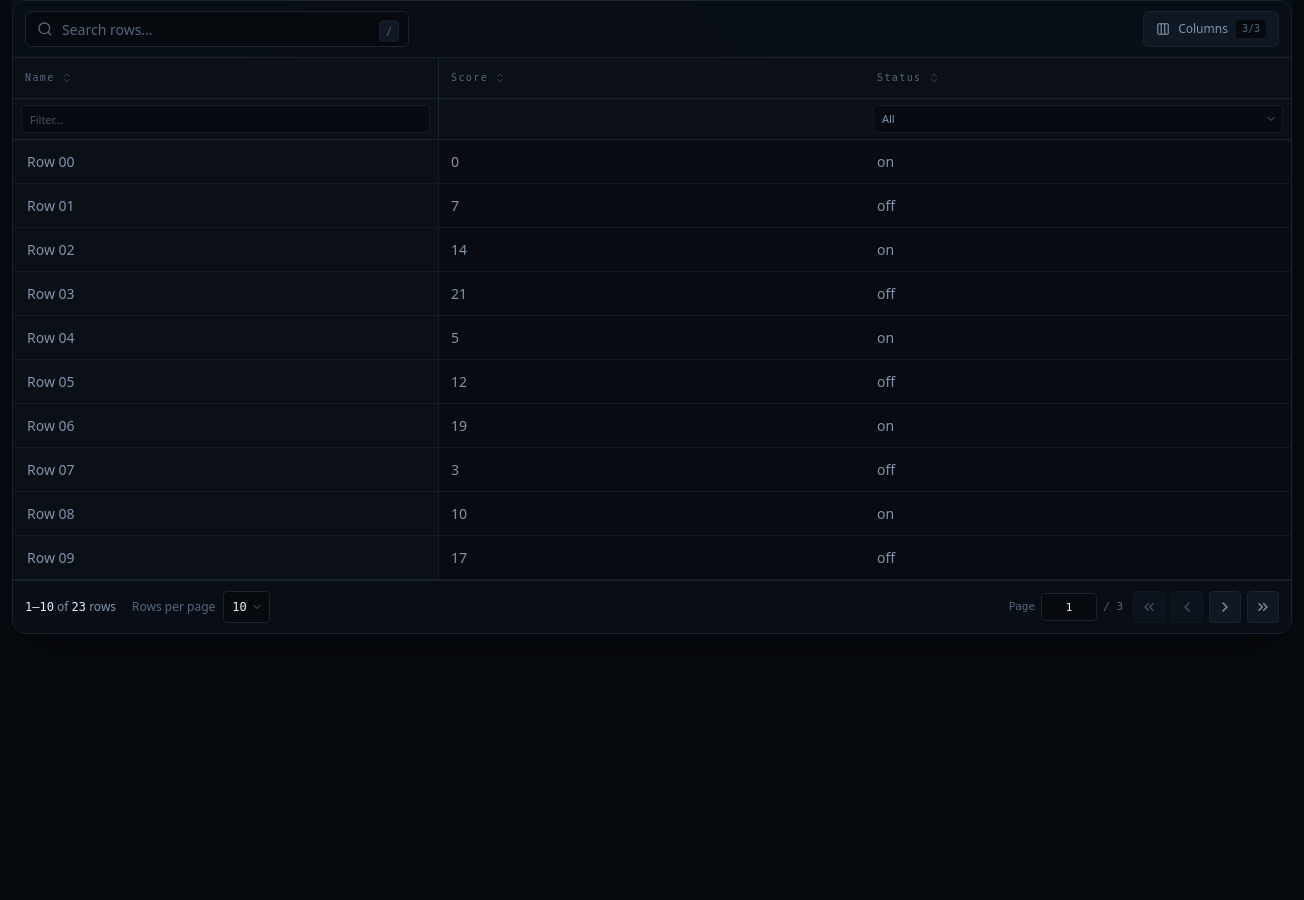
Test: DataGrid › filters a column with a select
Click the button with aria-label "Filter by Status": (888, 119) x1=873 y1=105 x2=1283 y2=133
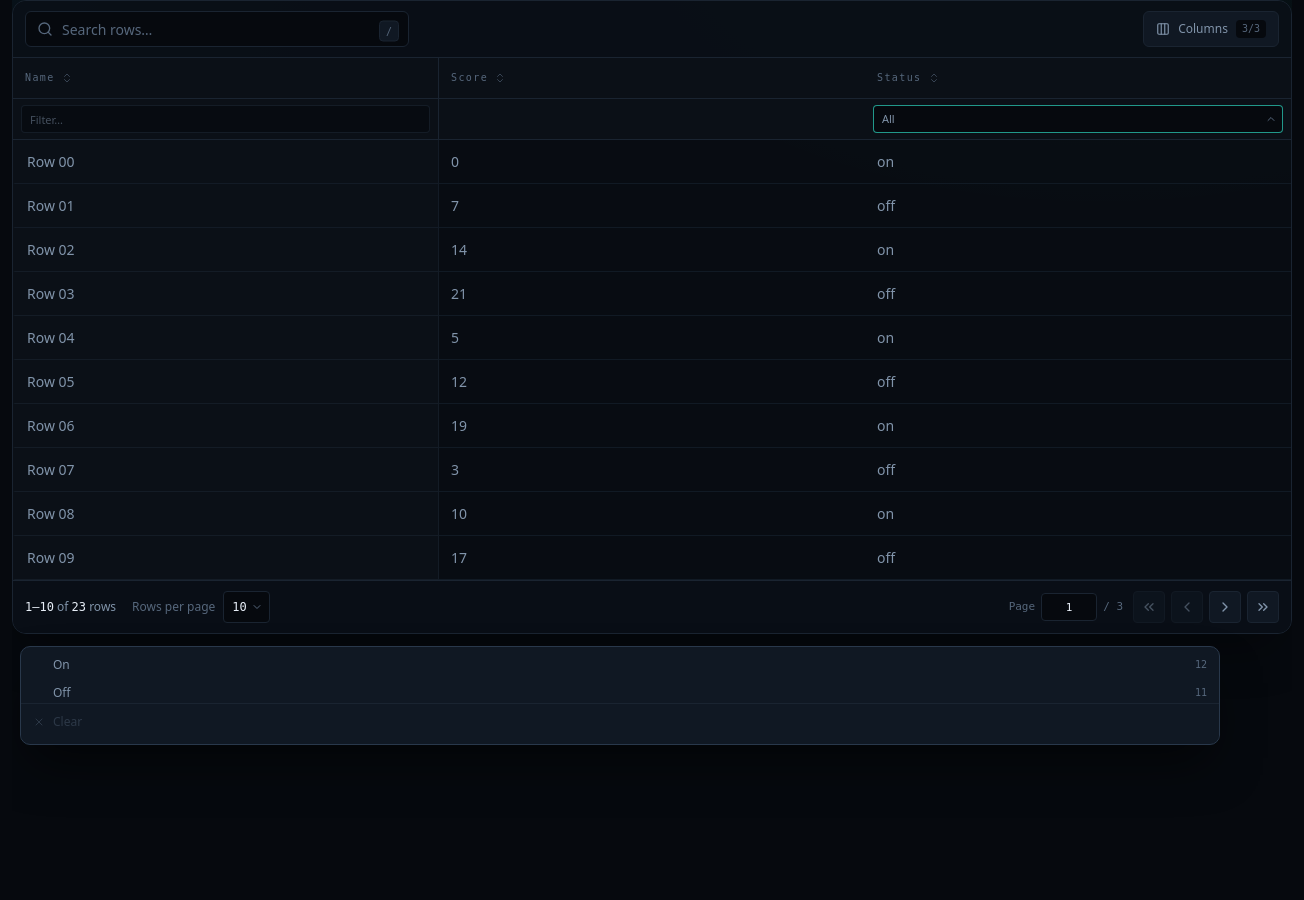
Click the menu item "On 12": (61, 664) x1=25 y1=651 x2=1215 y2=679
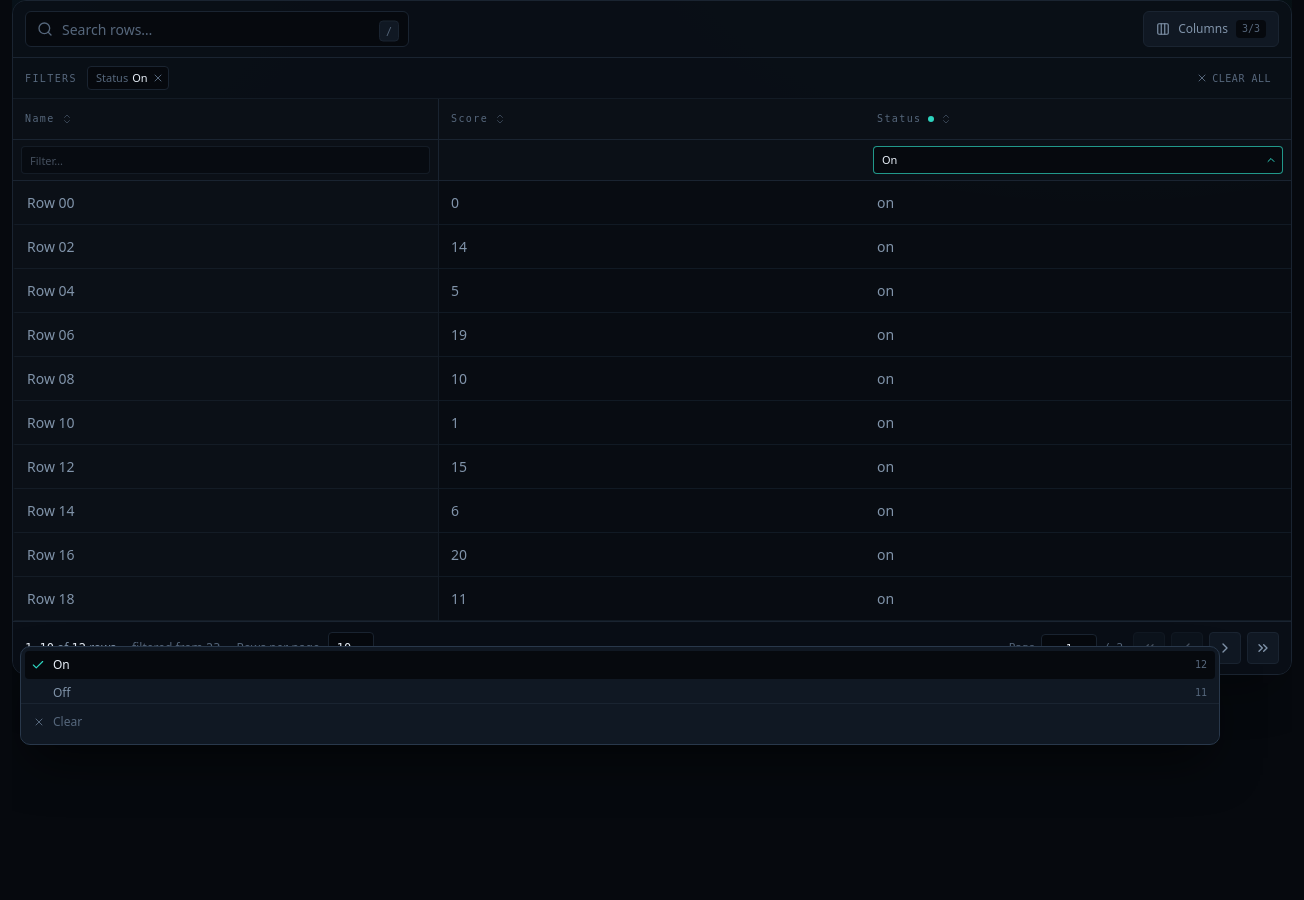
Press Escape
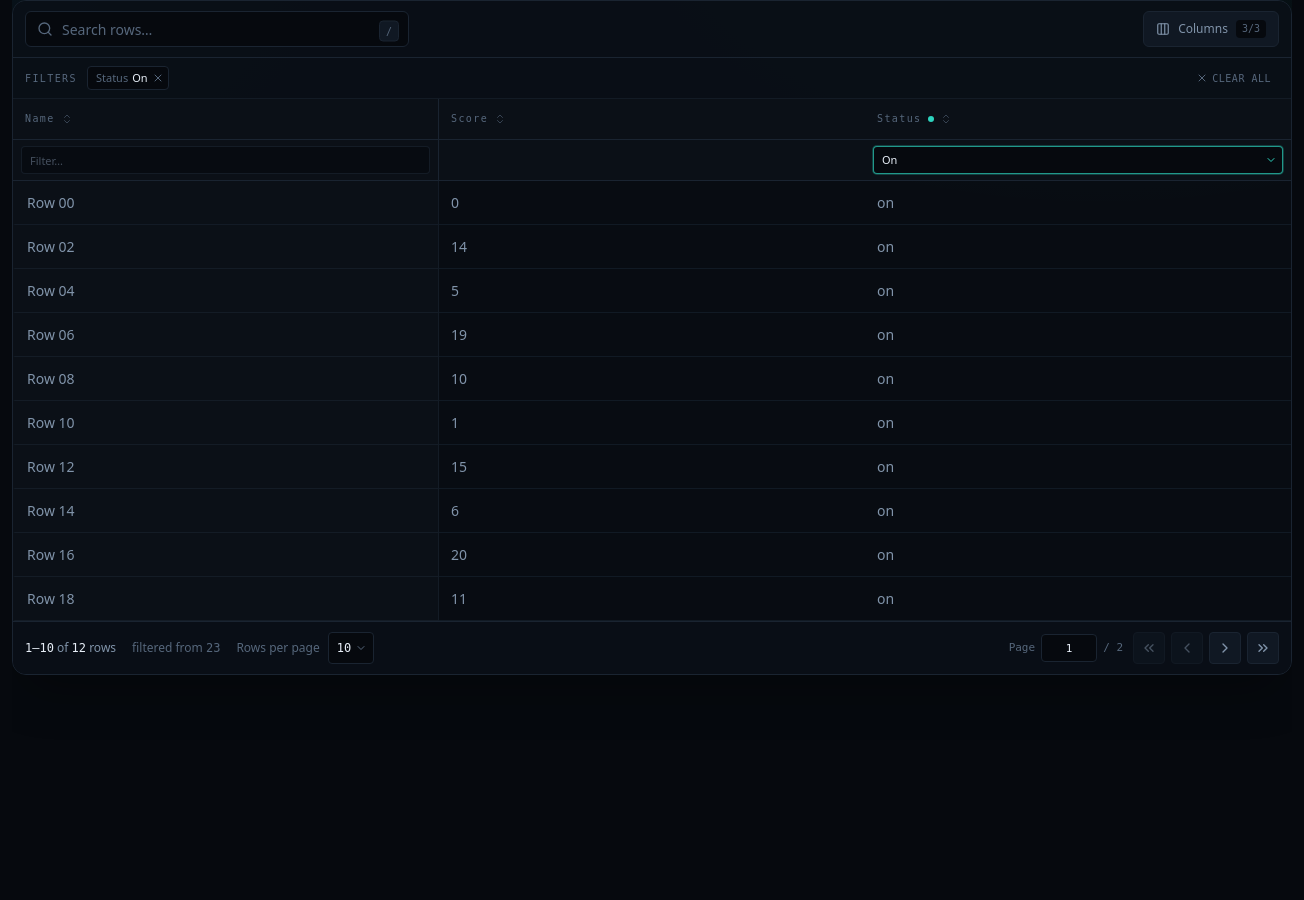
Check: the text "Off" is gone
